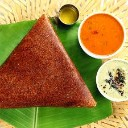dosa: (1, 18, 97, 109)
